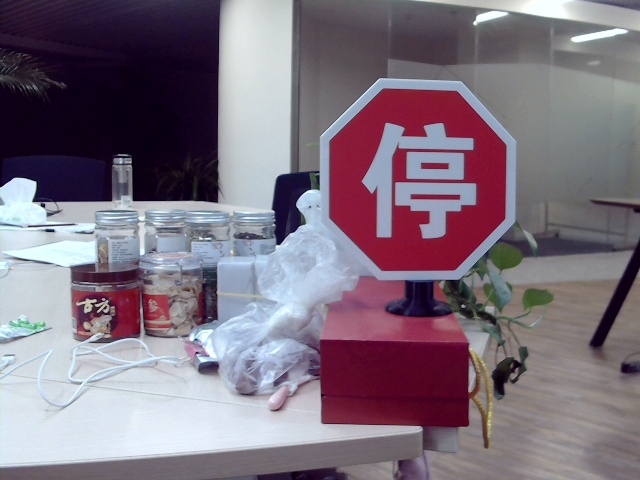stop: (359, 116, 477, 241)
